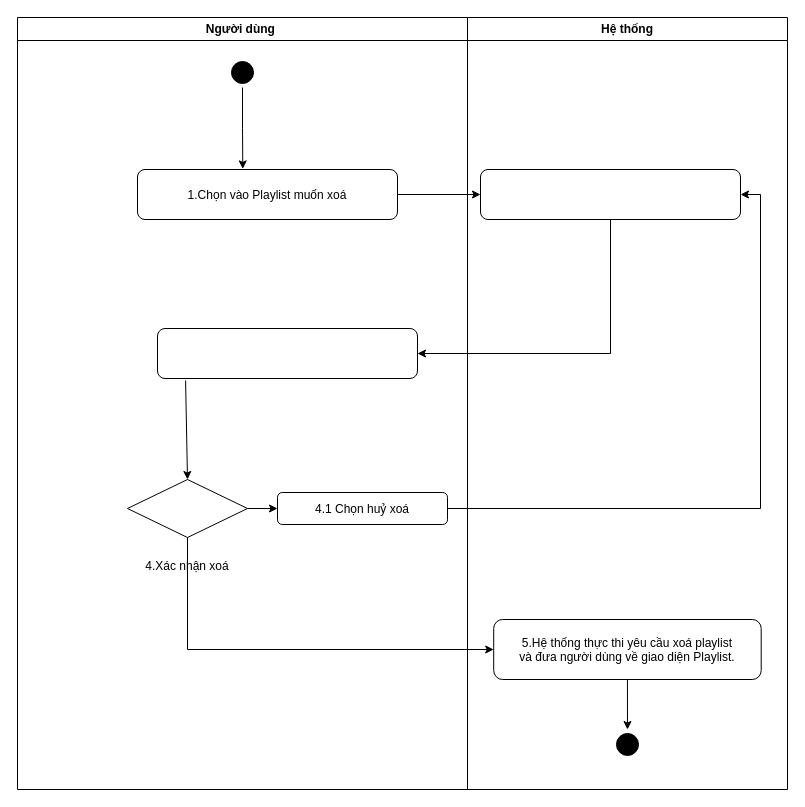
The diagram is 805 pixels wide and 807 high, and some of its shapes have lost their labels. Here are the shapes that lost their labels. From the top down, the centre of each, then its label:
point (610, 194): 2.Mở giao diện chi tiết playlist
point (287, 353): 3.Chọn "Xoá" trong giao diện
